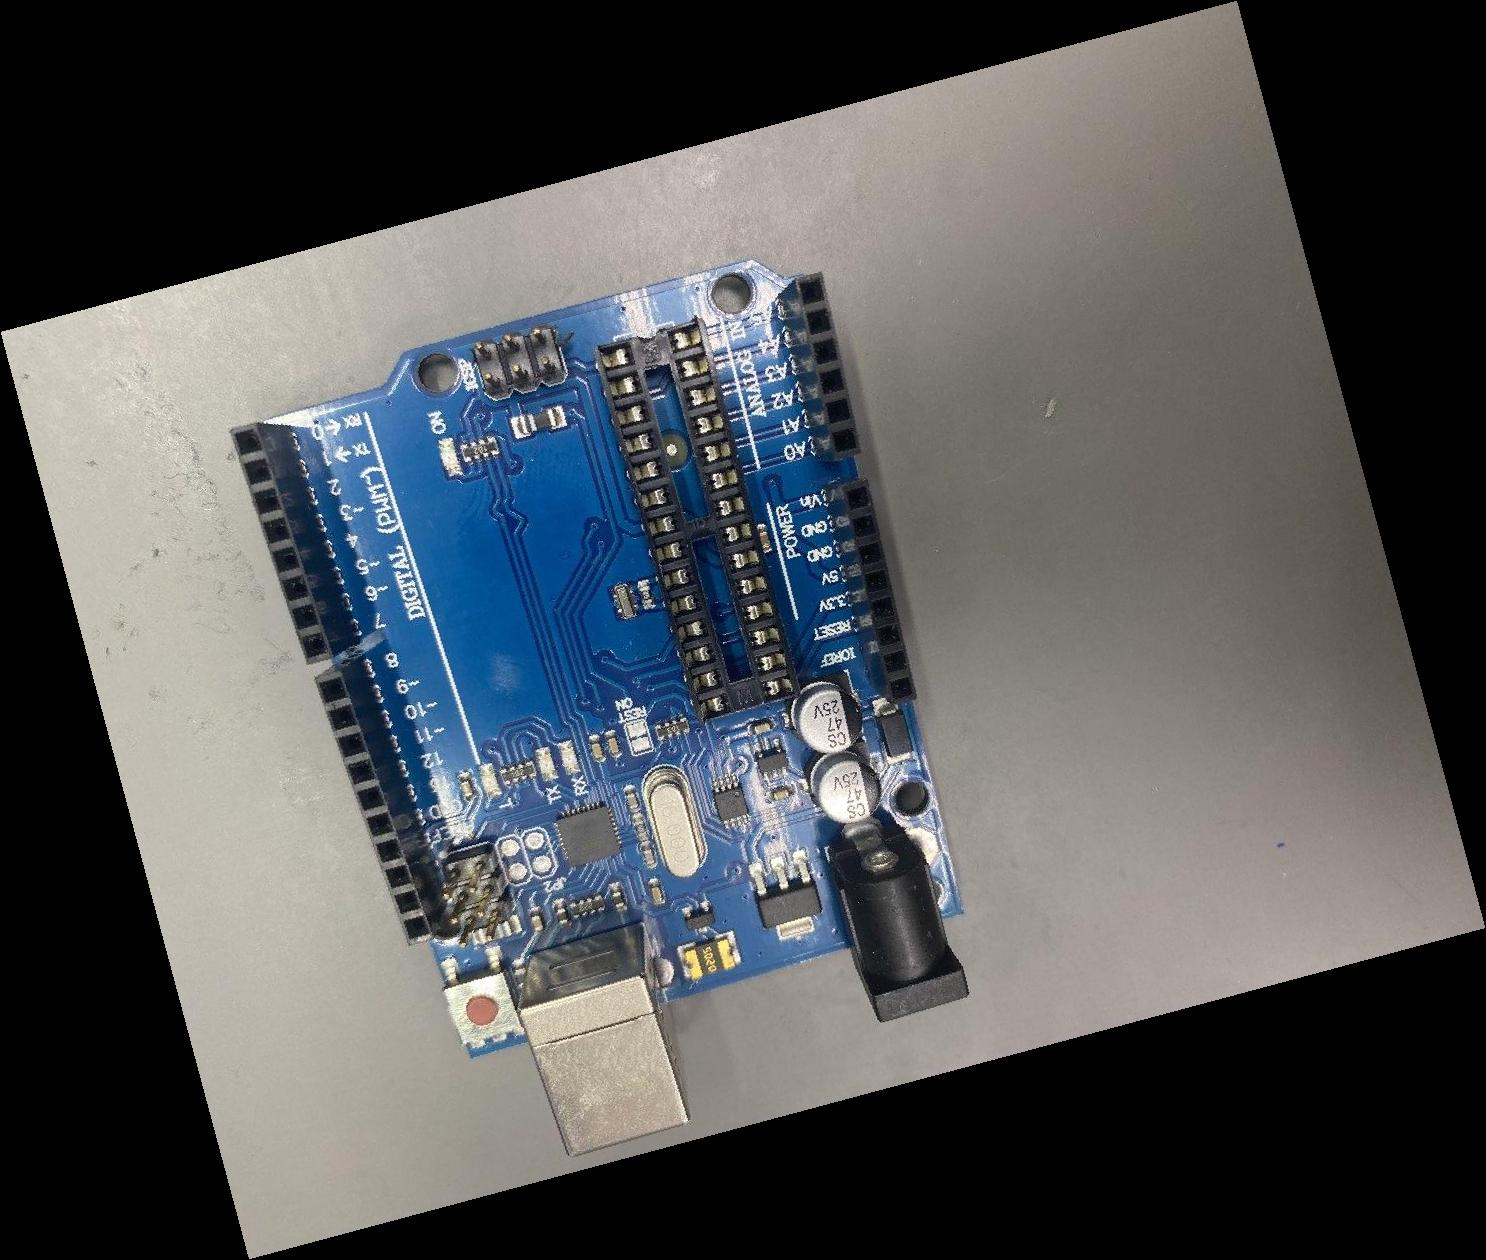Arduino board: (229, 260, 970, 1157)
USB: (519, 922, 691, 1157)
capacitor: (804, 737, 882, 824), (782, 670, 864, 752)
pins: (315, 655, 449, 946), (229, 422, 362, 665), (825, 476, 917, 706), (777, 270, 861, 461)
resistor: (457, 277, 501, 620), (499, 602, 540, 945), (652, 556, 691, 900), (569, 735, 607, 1076)
